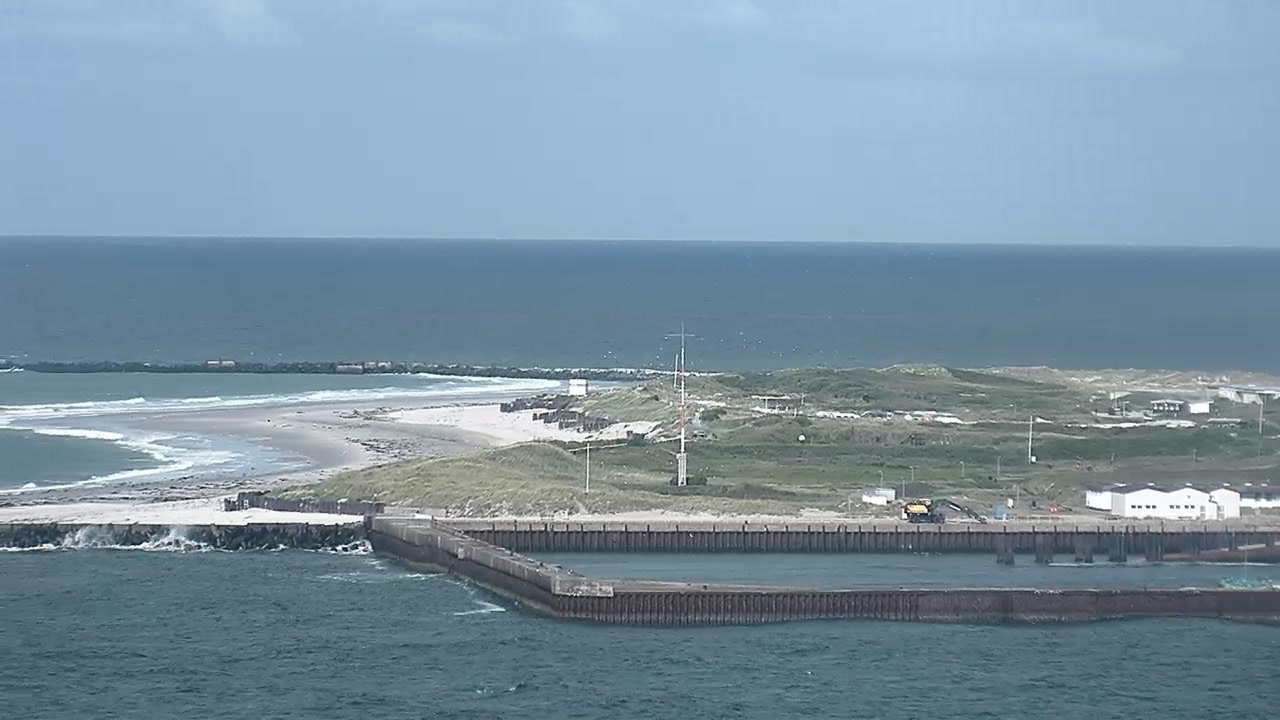land: (903, 498, 989, 525)
